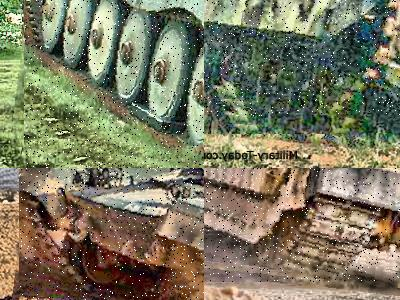tanks: (25, 1, 205, 159), (21, 169, 205, 300), (205, 1, 400, 117), (205, 169, 400, 283)
